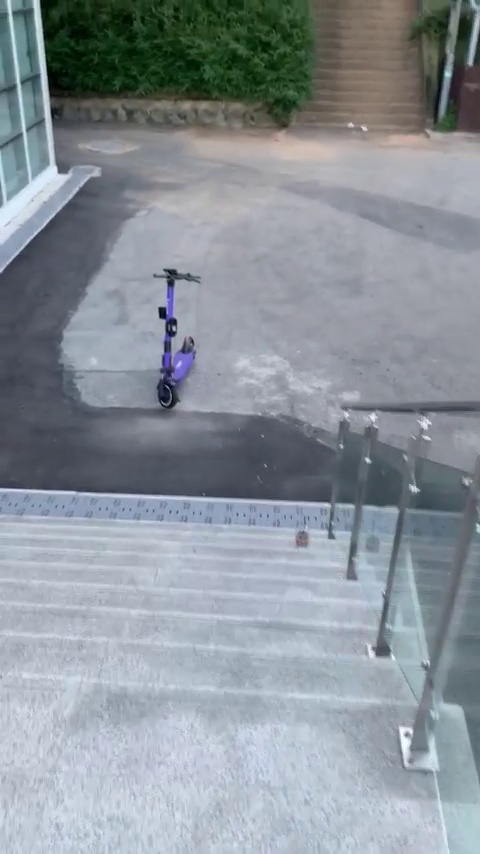beam: (135, 266, 210, 412)
